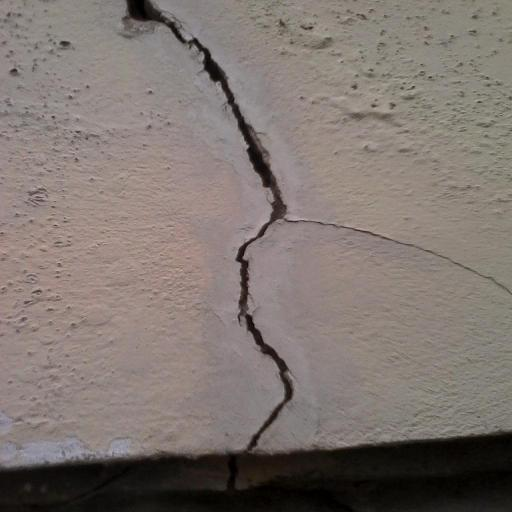spalling: (119, 3, 303, 453), (308, 212, 512, 301)
